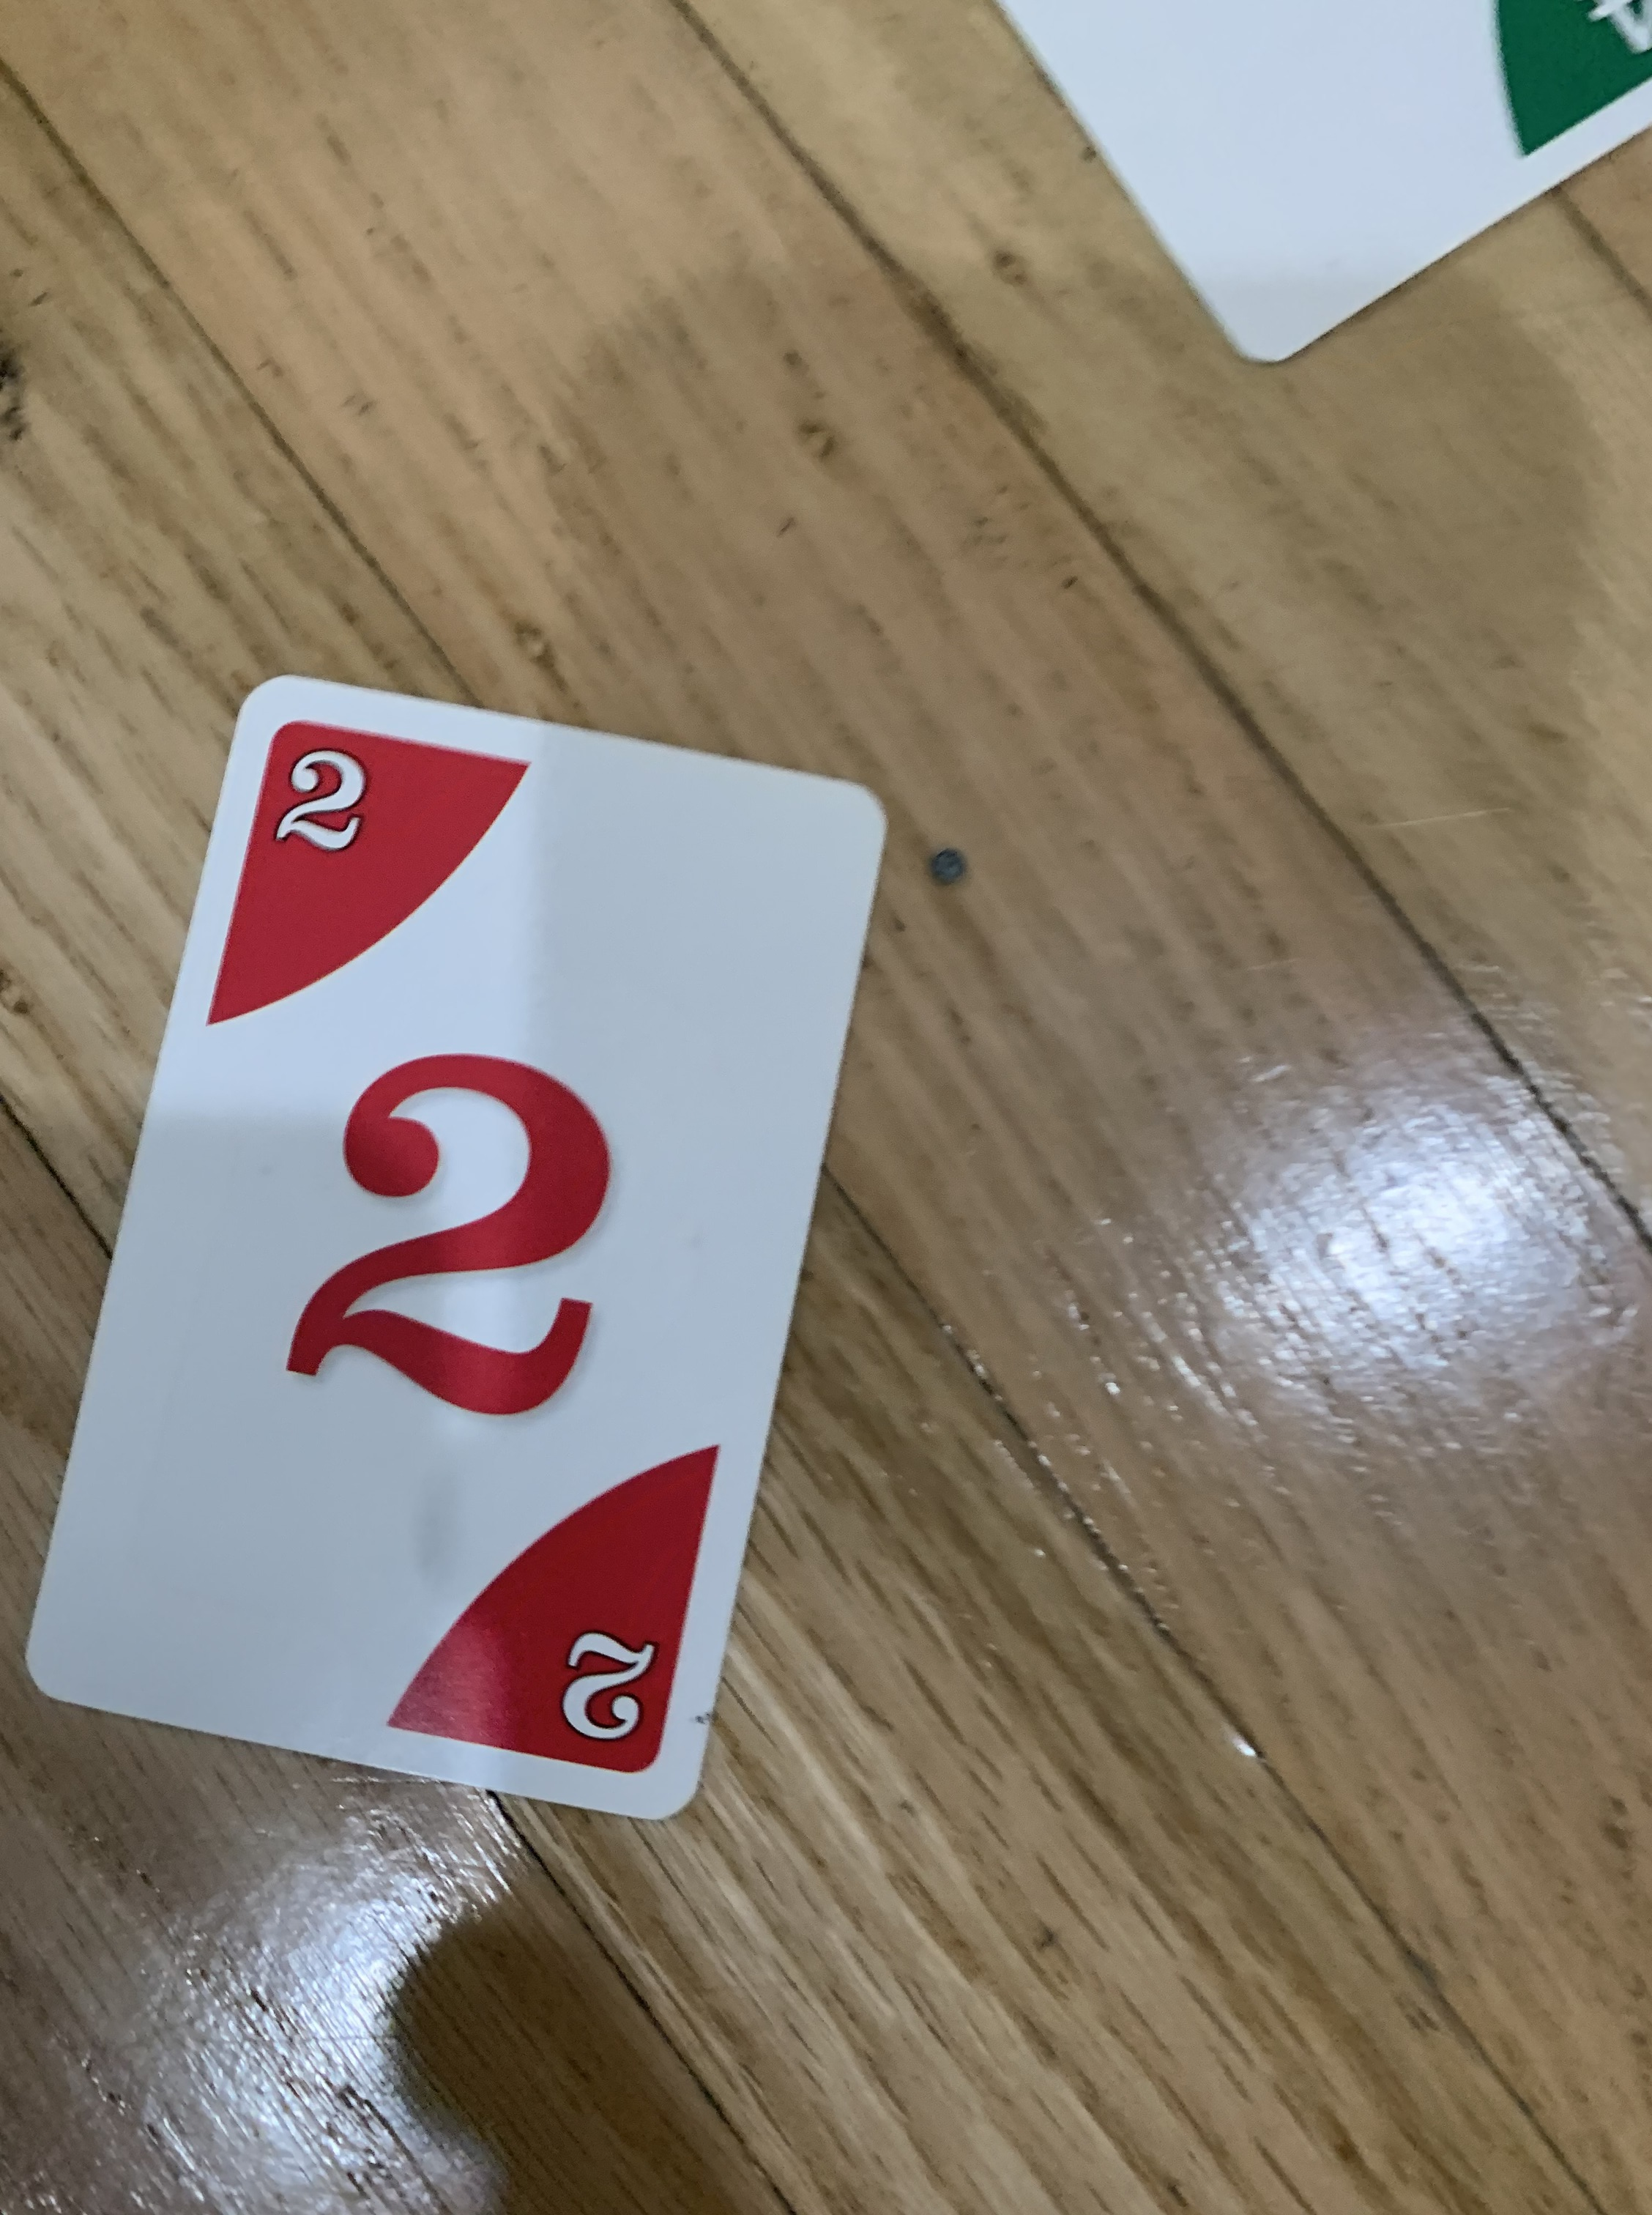two: (12, 672, 883, 1833)
